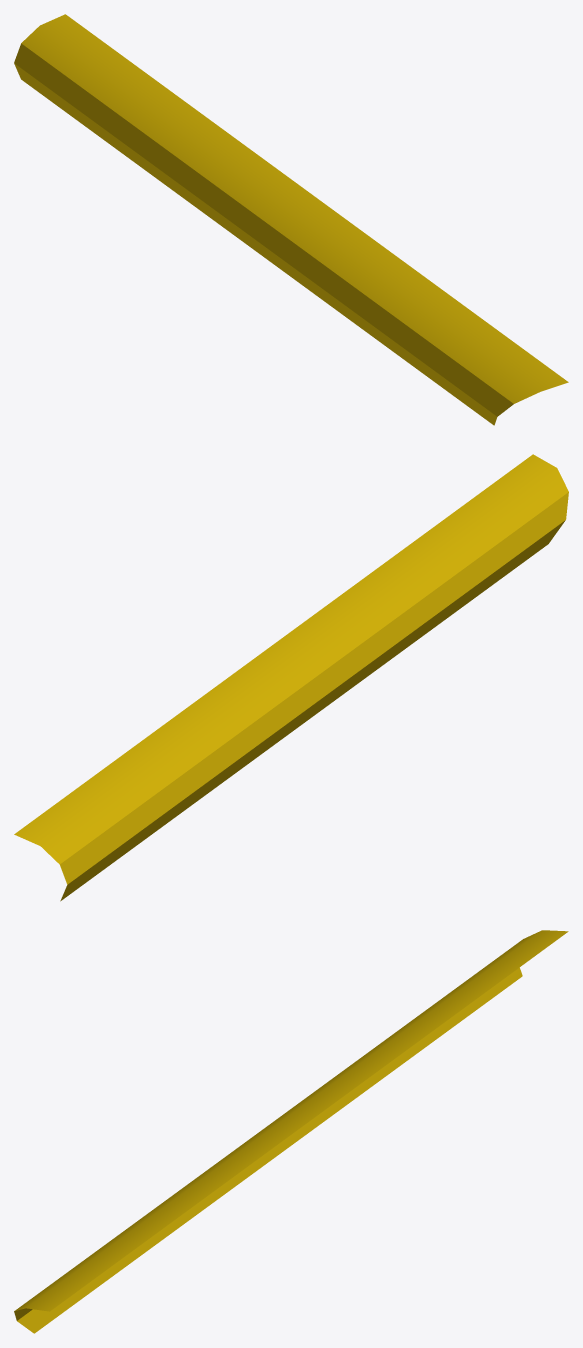
File: original_4.obj
The picture shows the model from 3 angles, top to bottom: view 1: azimuth 30°, elevation 25°; view 2: azimuth 150°, elevation 25°; view 3: azimuth 330°, elevation 25°; orthographic projection. The views are drawn at different scales.
Visible parts, largest first — view 1: mesh3/mesh3-geometry#mesh3-geometry; view 2: mesh3/mesh3-geometry#mesh3-geometry; view 3: mesh3/mesh3-geometry#mesh3-geometry.
Part boxes in pixels (<box>): mesh3/mesh3-geometry#mesh3-geometry: <box>14,14,568,425</box>; mesh3/mesh3-geometry#mesh3-geometry: <box>14,454,568,901</box>; mesh3/mesh3-geometry#mesh3-geometry: <box>14,930,568,1333</box>.
Size of the model in its own units: 0.0315 by 0.0315 by 0.5292.
